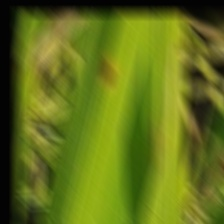Bacterial_Leaf_Blight: (98, 53, 115, 87)
